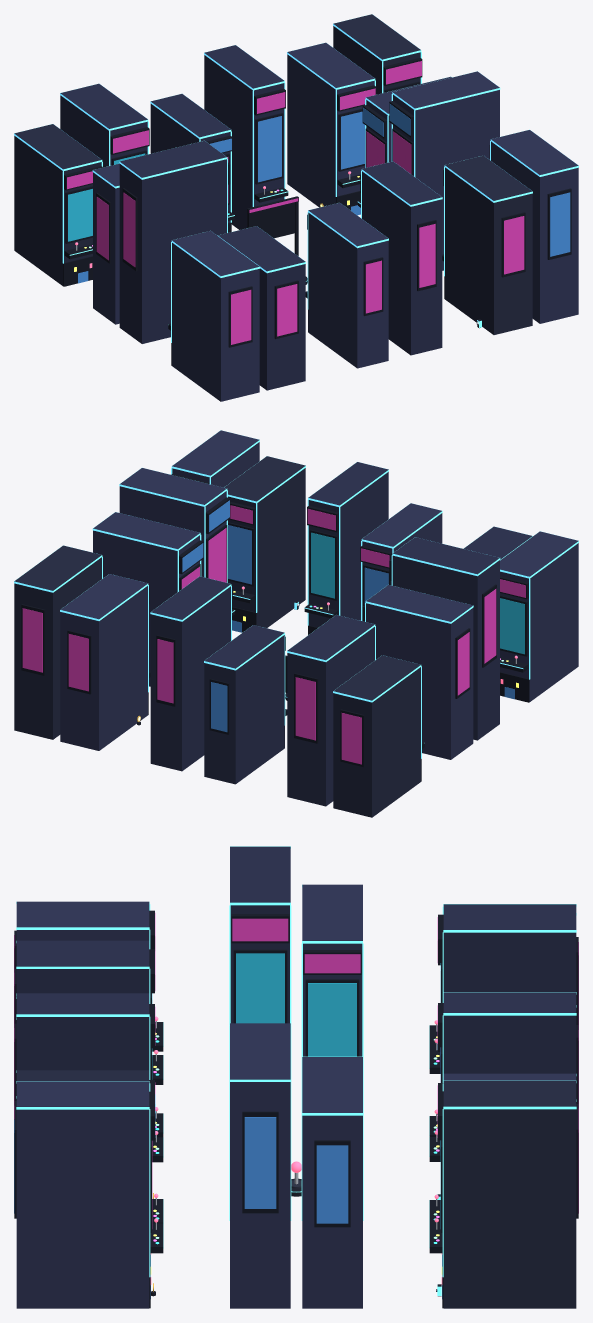
3 renders of one model, top to bottom at view 1: azimuth 30°, elevation 25°; view 2: azimuth 150°, elevation 25°; view 3: azimuth 270°, elevation 25°, orthographic. The views are drawn at different scales.
Visible parts, largest first — view 1: district_city_arcade.lod0; view 2: district_city_arcade.lod0; view 3: district_city_arcade.lod0.
Boxes of the visible parts, box(x1,y1,x2,y2) form: district_city_arcade.lod0: box(14, 14, 578, 401); district_city_arcade.lod0: box(14, 430, 578, 817); district_city_arcade.lod0: box(14, 846, 578, 1308).
Bounding box in the file's own units: 97.9 × 43.81 × 97.9.
